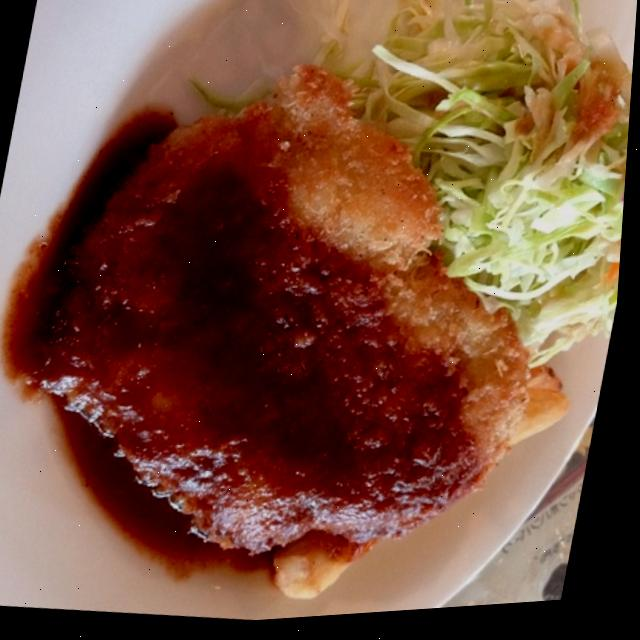鸡肉料理 含炸鸡: (0, 2, 620, 636)
